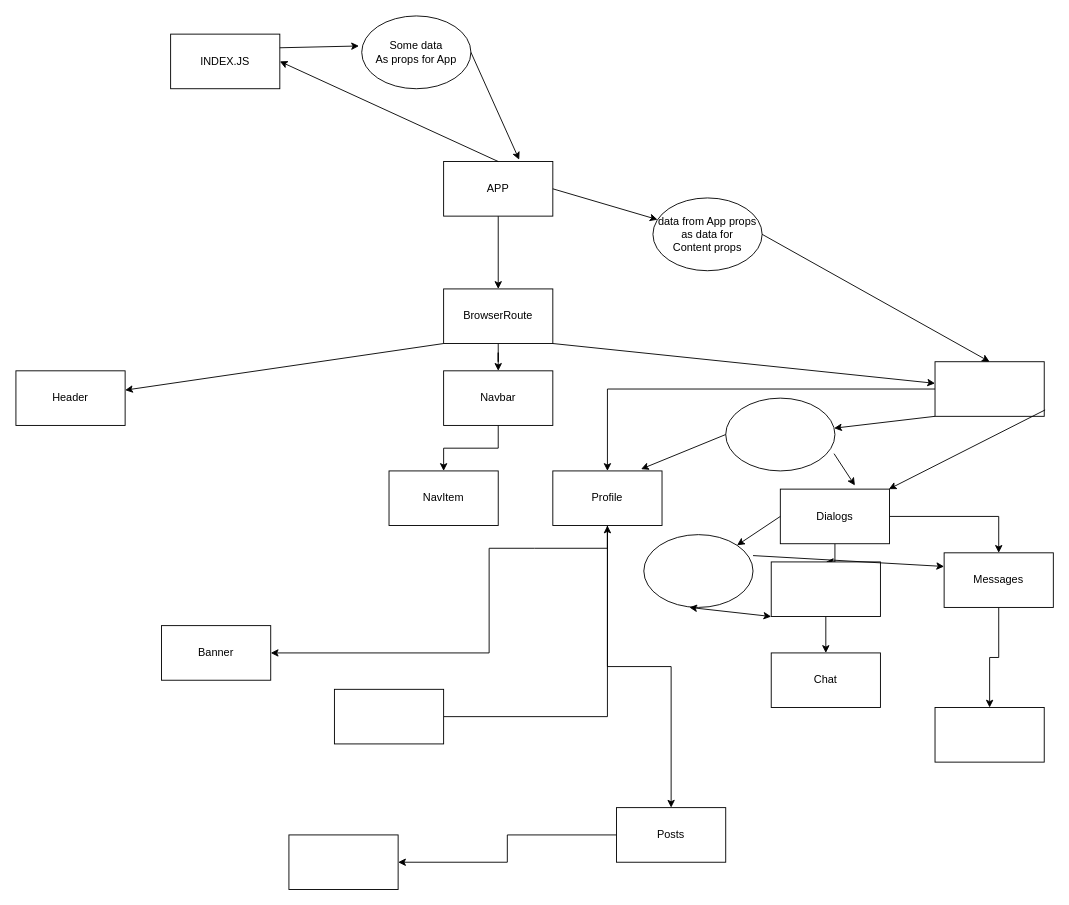
Image size: 1069x905. Some labels were removed from this diagram. The box of each missing label's shape, as (x1, y1, x2, y2) in pixels:
Chats: (770, 561, 880, 617)
Content: (934, 361, 1044, 416)
Data for Chats and MEssages from parent props: (643, 534, 753, 607)
Data for components as props, from parent props: (725, 397, 835, 471)
Message: (934, 707, 1044, 762)
Post: (288, 834, 398, 890)
ProfileInfo: (334, 688, 444, 744)
